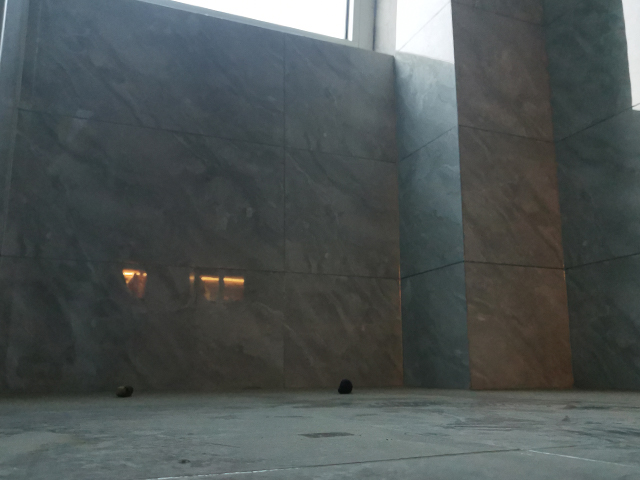feces: (114, 382, 134, 400), (336, 377, 354, 395)
